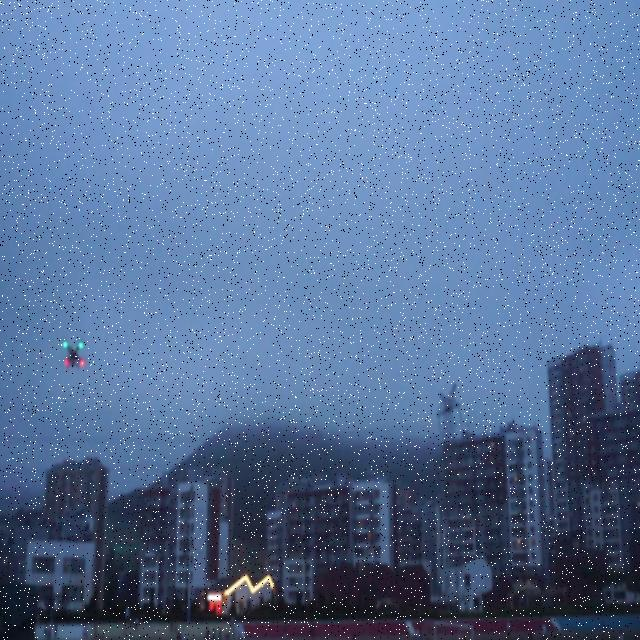UAV: (63, 342, 85, 369)
